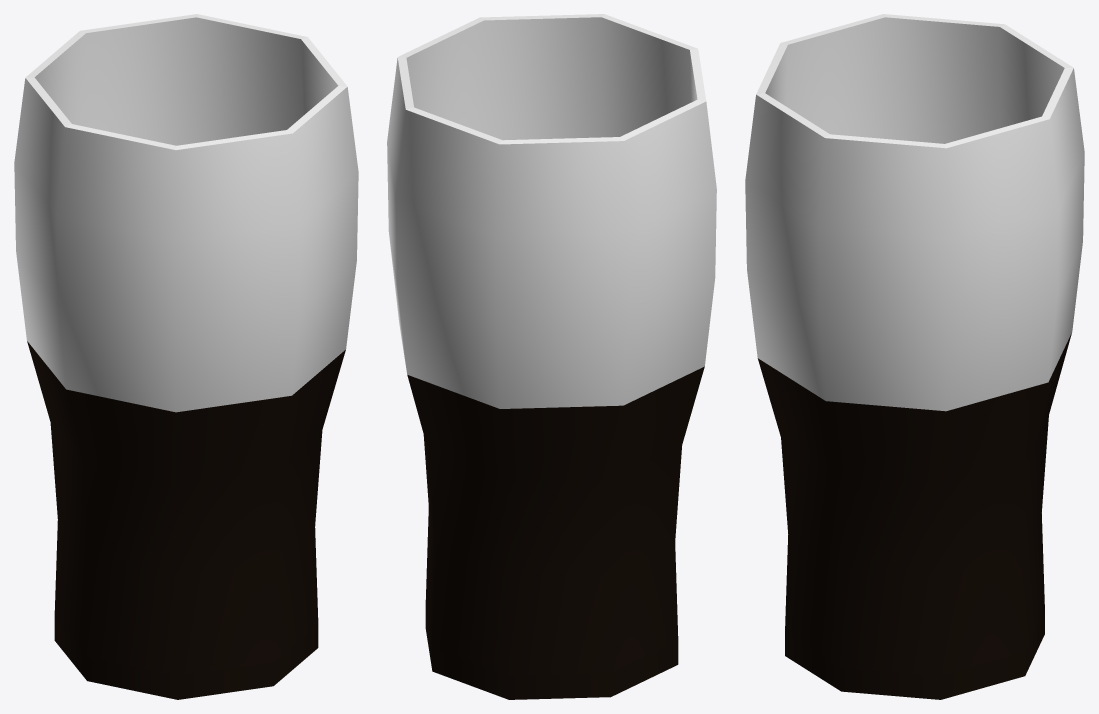
Rendered from BeerGlassHalf.FBX.
3 renders of one model, left to right at view 1: azimuth 30°, elevation 25°; view 2: azimuth 150°, elevation 25°; view 3: azimuth 270°, elevation 25°, orthographic.
Parts seen in each view (by area): view 1: Cylinder214; view 2: Cylinder214; view 3: Cylinder214.
Boxes of the visible parts, x1,y1,x2,y2 form: Cylinder214: (14,14,358,699); Cylinder214: (387,14,716,699); Cylinder214: (745,14,1084,699).
Size of the model in its own units: 2.27 by 4.17 by 2.27.
1 material, 1 textured.
